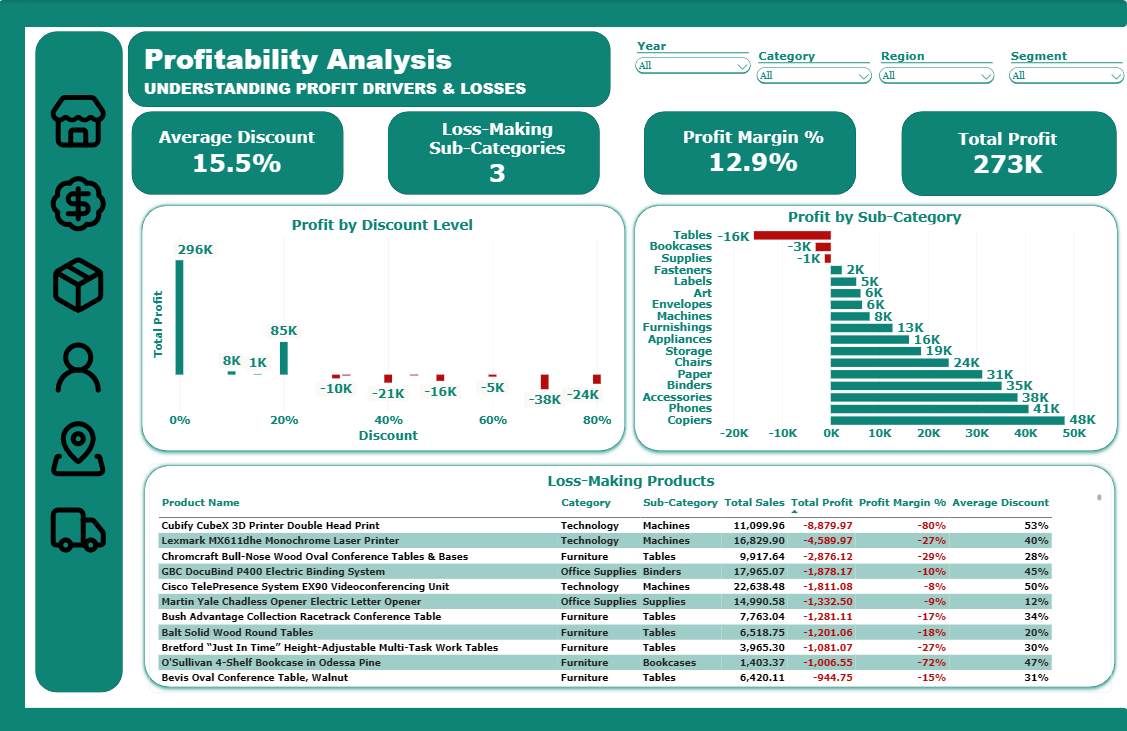

Layout of this report page (visuals, bound fields, positions):
{"tool":"powerbi","page":{"name":"02 Profitability Analysis","canvas":[2000,1300],"ordinal":1},"visuals":[{"type":"shape","box":[0,0,1999.7,48.2],"z":0},{"type":"shape","box":[228.4,55.6,855.8,134.4],"z":0,"group":"g6"},{"type":"group","id":"g1","title":"Group 2","box":[234.8,197.2,375.8,148.1],"z":0,"group":"g5"},{"type":"textbox","box":[257.5,68.1,763,106],"z":1000,"group":"g6"},{"type":"group","id":"g2","title":"Group 3","box":[689.2,197.2,375.8,148.1],"z":1000,"group":"g5"},{"type":"shape","box":[0,1253.9,2000.5,46.5],"z":1000},{"type":"shape","box":[0,0,46.5,1300.5],"z":2000},{"type":"group","id":"g3","title":"Group 4","box":[1143.6,197.2,375.8,148.1],"z":2000,"group":"g5"},{"type":"shape","box":[234.8,197.2,375.8,148.1],"z":3000,"group":"g1"},{"type":"group","id":"g4","title":"Group 5","box":[1599.3,197.7,381.3,150.2],"z":3000,"group":"g5"},{"type":"card","fields":{"Values":["Page1 Measures.Total Profit"]},"box":[704.9,246.6,289,121.5],"z":3000},{"type":"shape","box":[64.2,55.4,155.1,1172],"z":4000},{"type":"shape","box":[248.1,815.3,1739.1,412.1],"z":5000},{"type":"group","id":"g5","title":"Group 6","box":[234.8,197.2,1745.7,150.6],"z":6000},{"type":"shape","box":[1599.3,197.7,381.3,150.2],"z":7000,"group":"g4"},{"type":"shape","box":[242.9,354.5,875.1,454.2],"z":7000},{"type":"group","id":"g6","title":"Group 1","box":[228.4,55.6,855.8,134.4],"z":8000},{"type":"shape","box":[1143.6,197.2,375.8,148.1],"z":8000,"group":"g3"},{"type":"shape","box":[689.2,197.2,375.8,148.1],"z":9000,"group":"g2"},{"type":"lineClusteredColumnComboChart","title":"Profit by Discount Level","fields":{"Category":["Sales.Discount"],"Y":["Page1 Measures.Total Profit"]},"box":[257,370,844.1,429.8],"z":9000},{"type":"shape","box":[1116.6,354.5,875.1,454.2],"z":10000},{"type":"cardVisual","fields":{"Data":["Page1 Measures.Total Profit"]},"box":[1640.2,206,297,134.2],"z":11000,"group":"g4"},{"type":"clusteredBarChart","title":"Profit by Sub-Category","fields":{"Category":["Sales.Sub-Category"],"Y":["Page1 Measures.Total Profit"]},"box":[1123.2,354.5,857.4,445.3],"z":11000},{"type":"cardVisual","fields":{"Data":["Page2 Measures.Average Discount"]},"box":[252.9,205.7,339,130.7],"z":11001,"group":"g1"},{"type":"cardVisual","fields":{"Data":["Page2 Measures.Loss-Making Sub-Categories"]},"box":[732.3,205.2,304.1,132.1],"z":11002,"group":"g2"},{"type":"cardVisual","fields":{"Data":["Page1 Measures.Profit Margin %"]},"box":[1183.9,203.7,308.7,131.8],"z":11003,"group":"g3"},{"type":"tableEx","title":"Loss-Making Products","fields":{"Values":["Sales.Product Name","Sales.Category","Sales.Sub-Category","Page1 Measures.Total Sales","Page1 Measures.Total Profit","Page1 Measures.Profit Margin %","Page2 Measures.Average Discount"]},"box":[265.9,821.9,1705.9,405.4],"z":12000},{"type":"slicer","fields":{"Values":["Sales.Ship Date.Variation.Date Hierarchy.Year"]},"box":[1123.2,68.7,213.9,71.9],"z":13000},{"type":"slicer","fields":{"Values":["Sales.Category"]},"box":[1338.1,86.4,213.9,71.9],"z":14000},{"type":"slicer","fields":{"Values":["Sales.Region"]},"box":[1555.2,86.4,213.9,71.9],"z":15000},{"type":"slicer","fields":{"Values":["Sales.Segment"]},"box":[1786.1,86.4,213.9,71.9],"z":16000},{"type":"group","id":"g7","title":"Group 7","box":[86.4,163.9,108.6,828.6],"z":16001},{"type":"image","box":[86.4,163.9,108.6,106.2],"z":17000,"group":"g7"},{"type":"image","box":[86.4,308.4,108.6,106.2],"z":18000,"group":"g7"},{"type":"image","box":[86.4,452.8,108.6,106.2],"z":19000,"group":"g7"},{"type":"image","box":[86.4,597.3,108.6,106.2],"z":20000,"group":"g7"},{"type":"image","box":[86.4,741.8,108.6,106.2],"z":21000,"group":"g7"},{"type":"image","box":[86.4,886.2,108.6,106.2],"z":22000,"group":"g7"}]}

Visuals, with their boxes in screenshot pixels (x1, y1, x2, y2), scaled from the page's 2000x1300 canvas onto the 1127x731 screenshot:
shape: 0:0:1126:27
shape: 129:31:611:107
"Group 2" group: 132:111:344:194
textbox: 145:38:575:98
"Group 3" group: 388:111:600:194
shape: 0:705:1126:730
shape: 0:0:26:730
"Group 4" group: 644:111:856:194
shape: 132:111:344:194
"Group 5" group: 901:111:1116:196
card - Page1 Measures.Total Profit: 397:139:560:207
shape: 36:31:124:690
shape: 140:458:1120:690
"Group 6" group: 132:111:1116:196
shape: 901:111:1116:196
shape: 137:199:630:455
"Group 1" group: 129:31:611:107
shape: 644:111:856:194
shape: 388:111:600:194
"Profit by Discount Level" lineClusteredColumnComboChart: 145:208:620:450
shape: 629:199:1122:455
cardVisual - Page1 Measures.Total Profit: 924:116:1092:191
"Profit by Sub-Category" clusteredBarChart: 633:199:1116:450
cardVisual - Page2 Measures.Average Discount: 143:116:334:189
cardVisual - Page2 Measures.Loss-Making Sub-Categories: 413:115:584:190
cardVisual - Page1 Measures.Profit Margin %: 667:115:841:189
"Loss-Making Products" tableEx: 150:462:1111:690
slicer - Sales.Ship Date.Variation.Date Hierarchy.Year: 633:39:753:79
slicer - Sales.Category: 754:49:875:89
slicer - Sales.Region: 876:49:997:89
slicer - Sales.Segment: 1006:49:1126:89
"Group 7" group: 49:92:110:558
image: 49:92:110:152
image: 49:173:110:233
image: 49:255:110:314
image: 49:336:110:396
image: 49:417:110:477
image: 49:498:110:558
